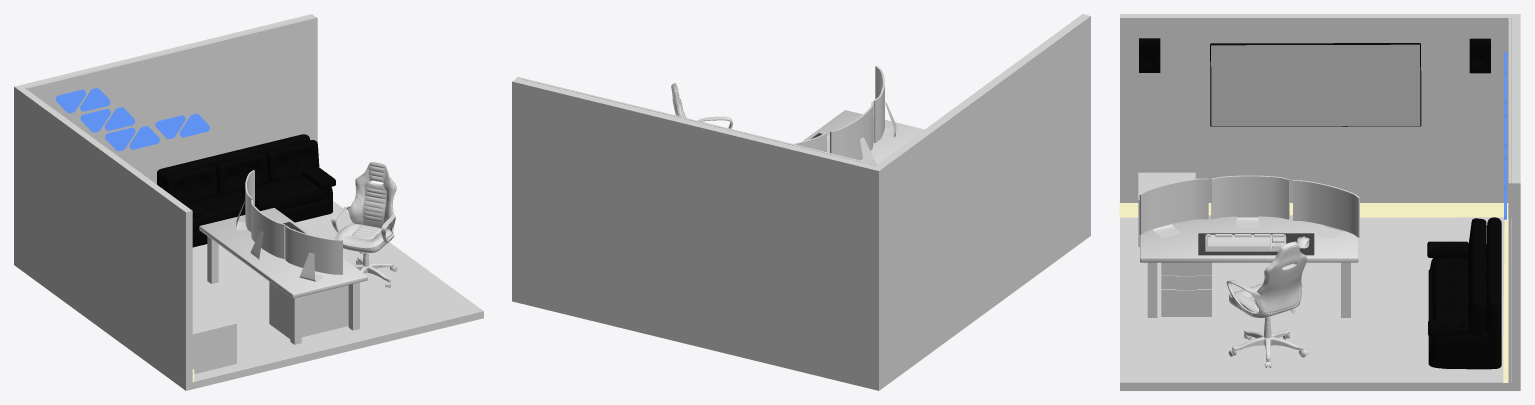
Rendered from room.gltf.
3 views of the same model, side by side, from view 1: azimuth 30°, elevation 25°; view 2: azimuth 150°, elevation 25°; view 3: azimuth 270°, elevation 25° (orthographic). The views are drawn at different scales.
Parts seen in each view (by area): view 1: Plane, Wall2, Sofa, Table, Gaming Chair, Poster, Light, DocHolder, SideTable, D3.002, D3.001, D3; view 2: Plane, D3.001, Table, D3.002, Wall2; view 3: Plane, TV, Sofa, Table, Gaming Chair, D3.001, DownLights, D3.002, D3, DocHolder, Keyboard, Wall2 (+5 smaller).
Boxes of the visible parts, bbox=[...] form: Plane: bbox=[14, 14, 483, 390]; Wall2: bbox=[25, 17, 317, 184]; Sofa: bbox=[157, 134, 335, 247]; Table: bbox=[199, 208, 367, 344]; Gaming Chair: bbox=[331, 162, 397, 287]; Poster: bbox=[239, 41, 291, 130]; Light: bbox=[56, 88, 209, 151]; DocHolder: bbox=[269, 281, 348, 338]; SideTable: bbox=[192, 305, 236, 374]; D3.002: bbox=[285, 225, 342, 281]; D3.001: bbox=[250, 200, 285, 260]; D3: bbox=[236, 170, 254, 232]; Plane: bbox=[512, 14, 1090, 390]; D3.001: bbox=[830, 101, 876, 164]; Table: bbox=[803, 110, 924, 164]; D3.002: bbox=[873, 66, 896, 142]; Wall2: bbox=[517, 77, 876, 165]; Plane: bbox=[1120, 14, 1520, 390]; TV: bbox=[1210, 43, 1421, 126]; Sofa: bbox=[1427, 217, 1501, 369]; Table: bbox=[1140, 215, 1358, 317]; Gaming Chair: bbox=[1226, 241, 1307, 367]; D3.001: bbox=[1211, 175, 1289, 227]; DownLights: bbox=[1119, 203, 1508, 382]; D3.002: bbox=[1139, 178, 1208, 237]; D3: bbox=[1293, 180, 1359, 238]; DocHolder: bbox=[1161, 262, 1211, 316]; Keyboard: bbox=[1205, 234, 1286, 251]; Wall2: bbox=[1508, 18, 1510, 382].
Size of the model in its own units: 8.21 by 4.69 by 8.2.
